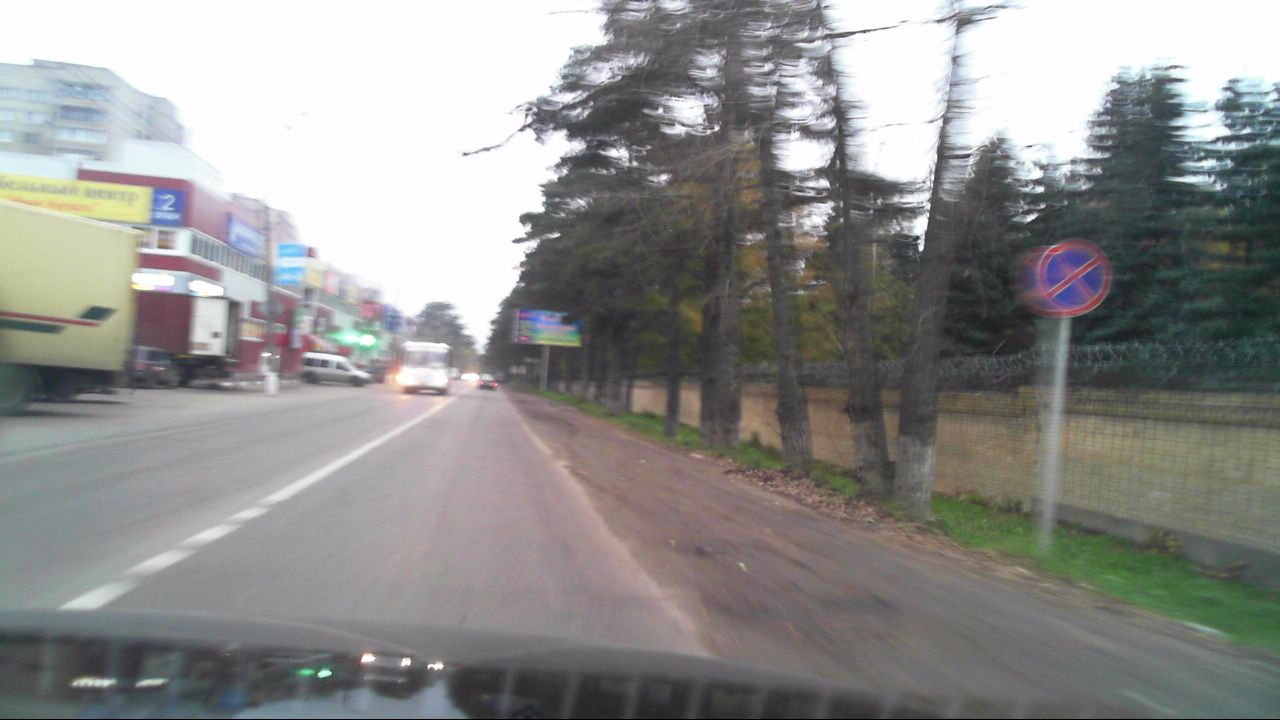No Parking: (1040, 239, 1110, 314)
